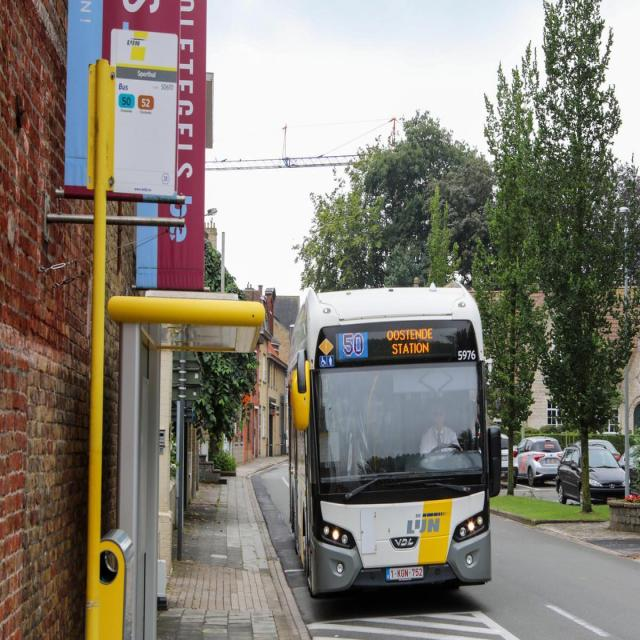bus-number: (340, 332, 368, 359)
